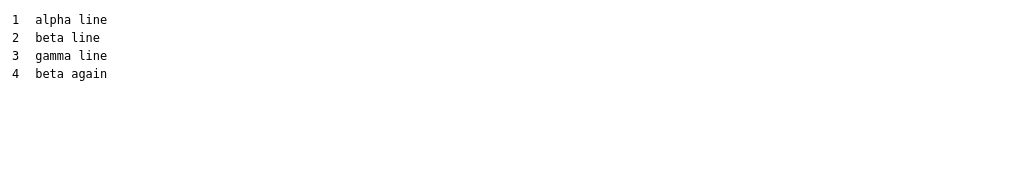
Test case: find in text (Ctrl+F) › counts every matching line
Press f
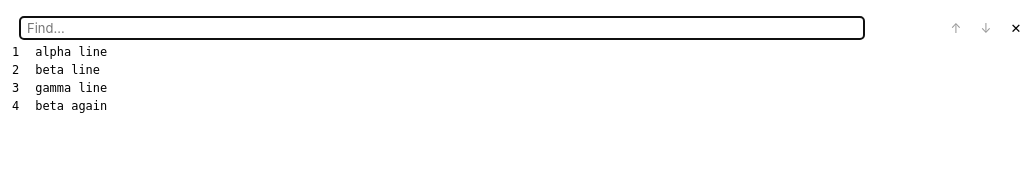
Type "beta" into the field named "Find in document" at (442, 28), box [20, 17, 864, 39]
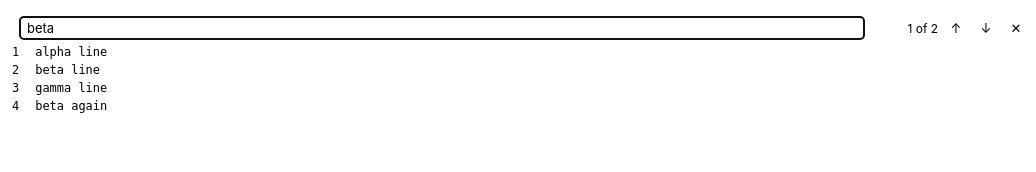
Expected: the text "1 of 2" is shown, [908, 20, 938, 36]
